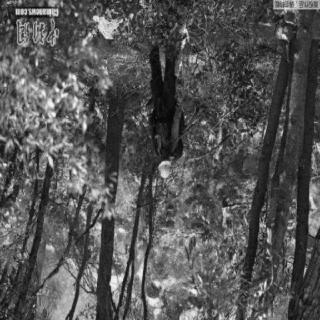Fire: (56, 201, 132, 301)
